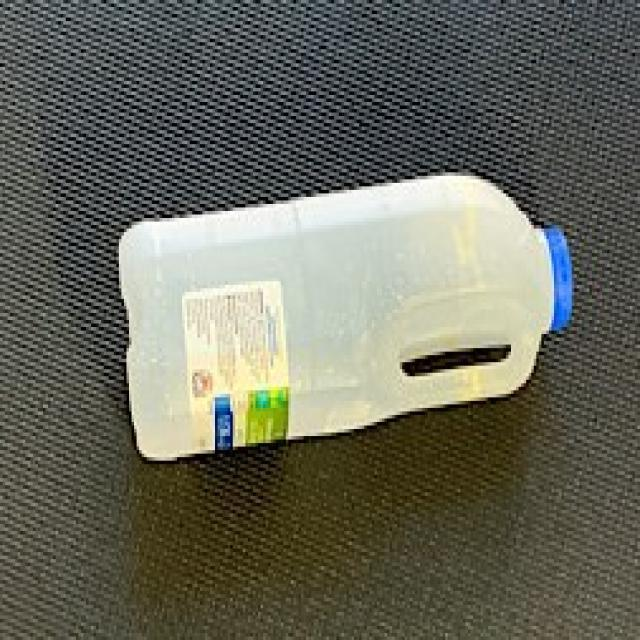HDPE Plastic: (111, 164, 583, 469)
